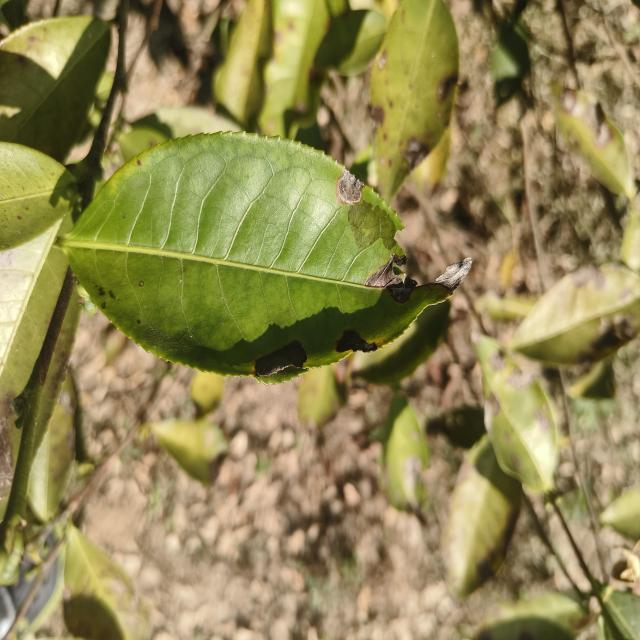Leaf: (58, 132, 470, 383), (0, 222, 68, 520), (369, 0, 459, 202), (0, 16, 111, 161), (508, 265, 640, 366), (441, 436, 522, 597), (475, 336, 558, 492), (63, 524, 149, 640), (258, 0, 330, 138), (553, 85, 635, 199), (352, 299, 450, 384), (0, 142, 75, 251), (149, 418, 257, 492), (28, 370, 76, 522), (214, 0, 271, 128), (381, 394, 430, 510), (477, 592, 589, 640), (40, 287, 80, 419), (314, 9, 387, 76), (298, 366, 341, 427)
